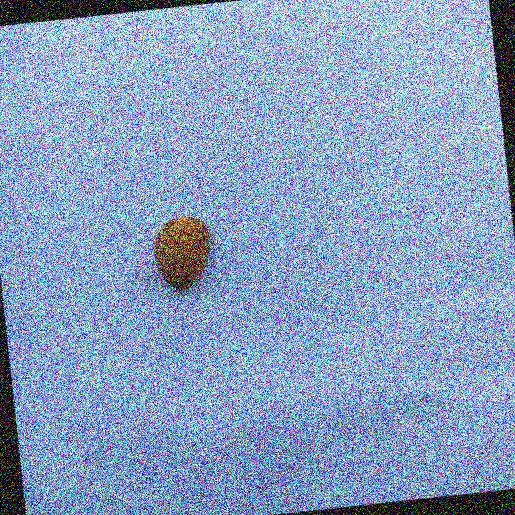grade2: (148, 211, 221, 295)
